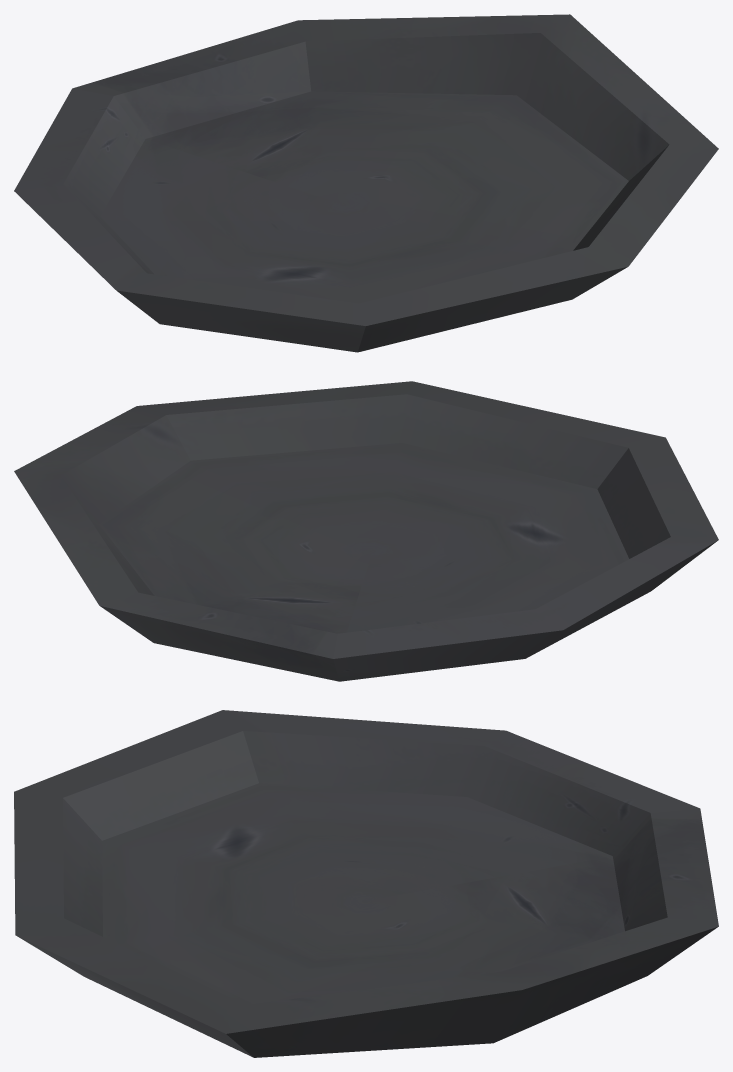
File: SM_PROP_plate_metal_02.fbx
3 views of the same model, one above another, from view 1: azimuth 30°, elevation 25°; view 2: azimuth 150°, elevation 25°; view 3: azimuth 270°, elevation 25° (orthographic). The views are drawn at different scales.
Parts seen in each view (by area): view 1: SM_PROP_plate_metal_02; view 2: SM_PROP_plate_metal_02; view 3: SM_PROP_plate_metal_02.
Part boxes in pixels (left/top/right/bottom): SM_PROP_plate_metal_02: left=14, top=14, right=718, bottom=352; SM_PROP_plate_metal_02: left=14, top=381, right=718, bottom=681; SM_PROP_plate_metal_02: left=14, top=710, right=718, bottom=1057.
Bounding box in the file's own units: 37.45 × 5.11 × 35.26.
